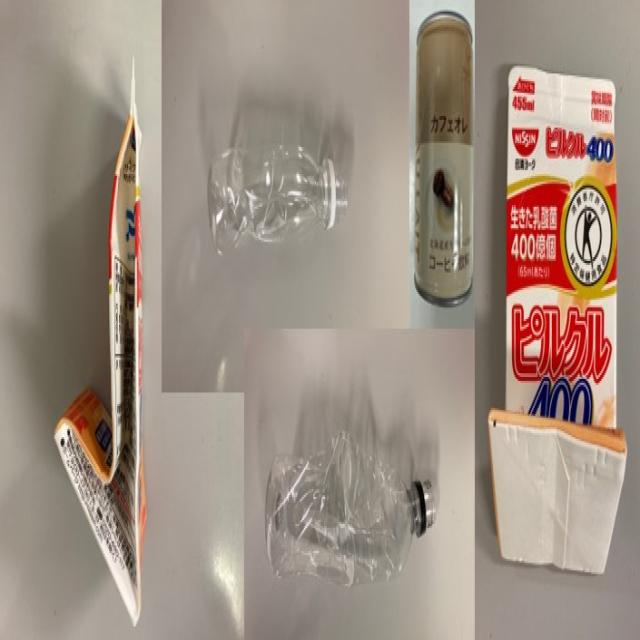Aluminium Foil: (495, 61, 623, 577), (57, 49, 145, 629)
Can: (408, 7, 476, 310)
Transparent Plastic Bottle: (262, 423, 436, 592), (205, 138, 349, 268)
